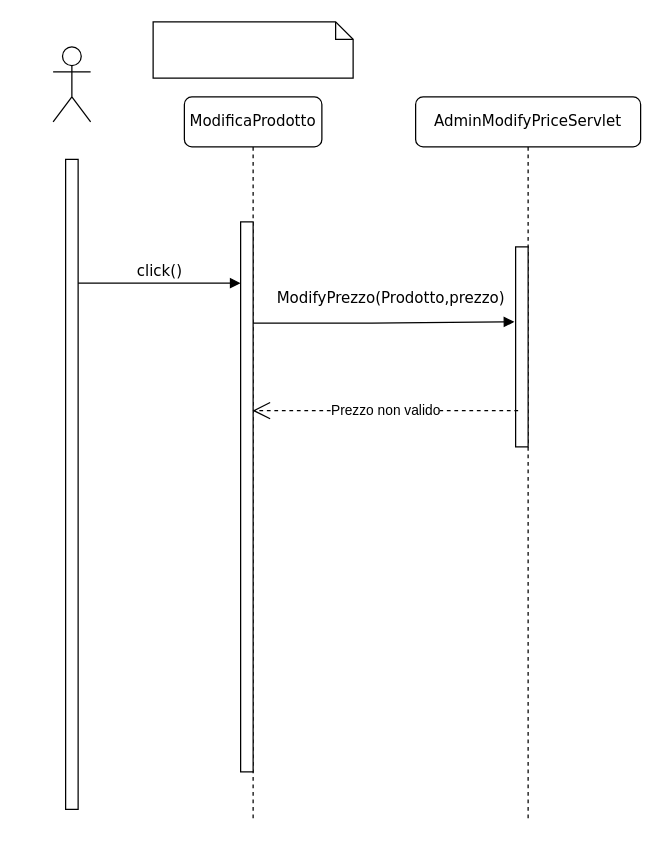
This 663x844 diagram has some shape labels left out. The shapes that lost their labels are listed below. From the top down, each one's centre as x and y in pixels, then its label:
At [252,49]: "admin_shop.jsp".
At [71,84]: "Amministratore".
